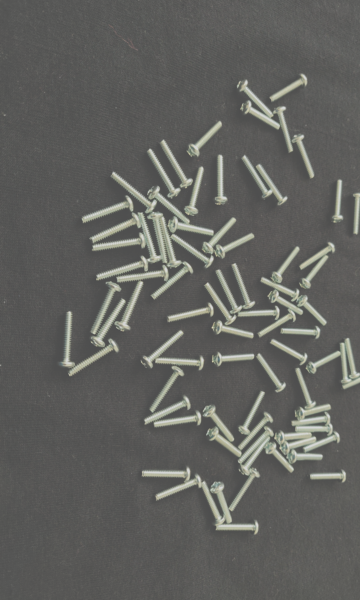longscrew: (67, 337, 121, 377), (110, 171, 158, 215), (89, 298, 128, 349), (147, 365, 186, 413), (146, 148, 182, 200), (89, 281, 123, 336), (147, 184, 191, 226), (140, 330, 185, 370), (159, 139, 194, 190), (89, 212, 142, 245), (151, 261, 194, 301), (170, 233, 216, 270), (114, 280, 146, 333), (240, 154, 274, 202), (142, 394, 193, 426), (81, 195, 134, 225), (203, 282, 238, 327), (153, 472, 203, 503), (228, 467, 262, 512), (237, 78, 274, 119), (95, 254, 149, 282), (255, 164, 289, 208), (186, 120, 224, 159), (237, 426, 275, 465), (238, 410, 274, 451), (201, 217, 238, 256), (238, 436, 272, 477), (214, 268, 243, 316), (237, 390, 267, 436), (254, 353, 287, 394), (239, 99, 281, 131), (159, 215, 183, 270), (230, 262, 257, 310), (203, 404, 236, 443), (138, 212, 162, 265), (55, 310, 76, 369), (256, 309, 297, 339), (166, 301, 215, 326), (206, 426, 243, 459), (91, 232, 146, 254), (297, 241, 336, 272), (269, 73, 309, 103), (258, 276, 302, 303), (270, 246, 301, 284), (201, 480, 226, 527), (183, 166, 206, 217), (268, 338, 309, 366), (147, 212, 169, 264), (214, 232, 256, 259), (296, 294, 329, 327), (264, 441, 296, 475), (299, 255, 330, 290), (292, 133, 315, 180), (116, 264, 170, 284), (273, 106, 295, 155), (167, 216, 215, 238), (140, 465, 192, 485), (294, 367, 317, 411), (153, 409, 203, 429), (267, 289, 304, 316), (210, 481, 233, 524), (154, 353, 205, 372), (211, 320, 255, 341), (306, 350, 342, 375), (212, 154, 229, 206), (302, 431, 342, 453), (215, 519, 261, 536), (280, 436, 318, 456), (343, 337, 360, 380), (330, 179, 346, 224), (237, 305, 281, 321), (294, 403, 332, 421), (291, 412, 333, 428), (307, 469, 348, 485), (212, 353, 255, 368), (338, 342, 353, 385), (280, 325, 322, 339), (294, 423, 335, 437), (287, 450, 325, 465), (275, 430, 313, 445), (341, 368, 360, 392), (351, 192, 360, 236)
